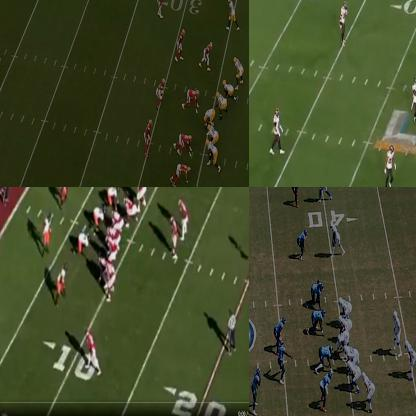CENTER: (110, 211, 122, 233), (336, 332, 347, 352), (204, 108, 216, 125)
DB: (273, 106, 284, 154), (385, 146, 396, 186), (252, 369, 262, 412), (322, 368, 332, 409), (340, 1, 346, 42), (178, 29, 186, 59), (300, 231, 308, 258), (293, 187, 302, 208), (156, 0, 166, 18), (0, 57, 2, 86)
LB: (54, 268, 64, 300), (278, 340, 285, 381), (42, 217, 50, 248), (144, 120, 151, 155), (158, 79, 166, 109), (276, 317, 285, 341), (59, 187, 68, 206), (412, 78, 415, 123)
QB: (170, 216, 178, 264), (393, 309, 400, 350)
SKILL: (85, 328, 100, 375), (104, 258, 116, 300), (232, 56, 244, 88), (178, 199, 188, 237), (406, 339, 415, 378), (332, 220, 342, 252), (227, 0, 238, 29), (98, 251, 108, 280), (366, 373, 374, 408), (318, 187, 332, 203)
